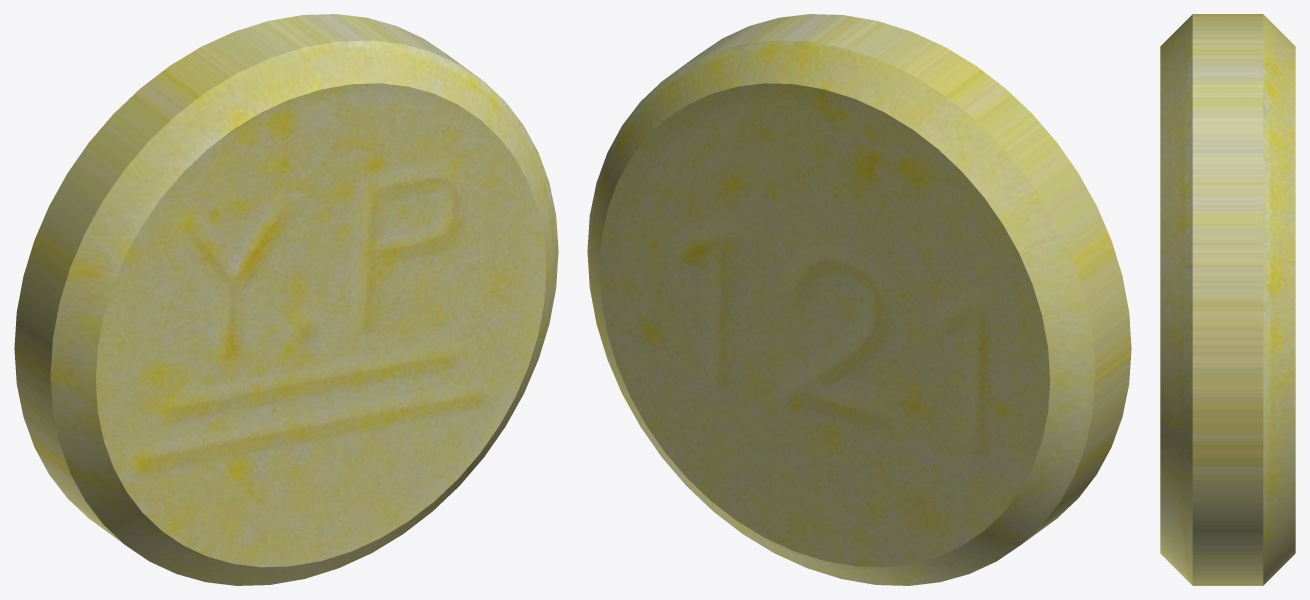
Rendered from 20171214GOPHDRGPT26199.fbx.
The picture shows the model from 3 angles, left to right: view 1: azimuth 30°, elevation 25°; view 2: azimuth 150°, elevation 25°; view 3: azimuth 270°, elevation 25°; orthographic projection. The views are drawn at different scales.
Visible parts, largest first — view 1: BezierCircle; view 2: BezierCircle; view 3: BezierCircle.
Part boxes in pixels (x1=…): BezierCircle: x1=14, y1=14, x2=558, y2=585; BezierCircle: x1=587, y1=14, x2=1131, y2=585; BezierCircle: x1=1160, y1=14, x2=1295, y2=585.
Bounding box in the file's own units: 1.12 × 1.12 × 0.2654.
Materials: 1 (1 with a texture image).
